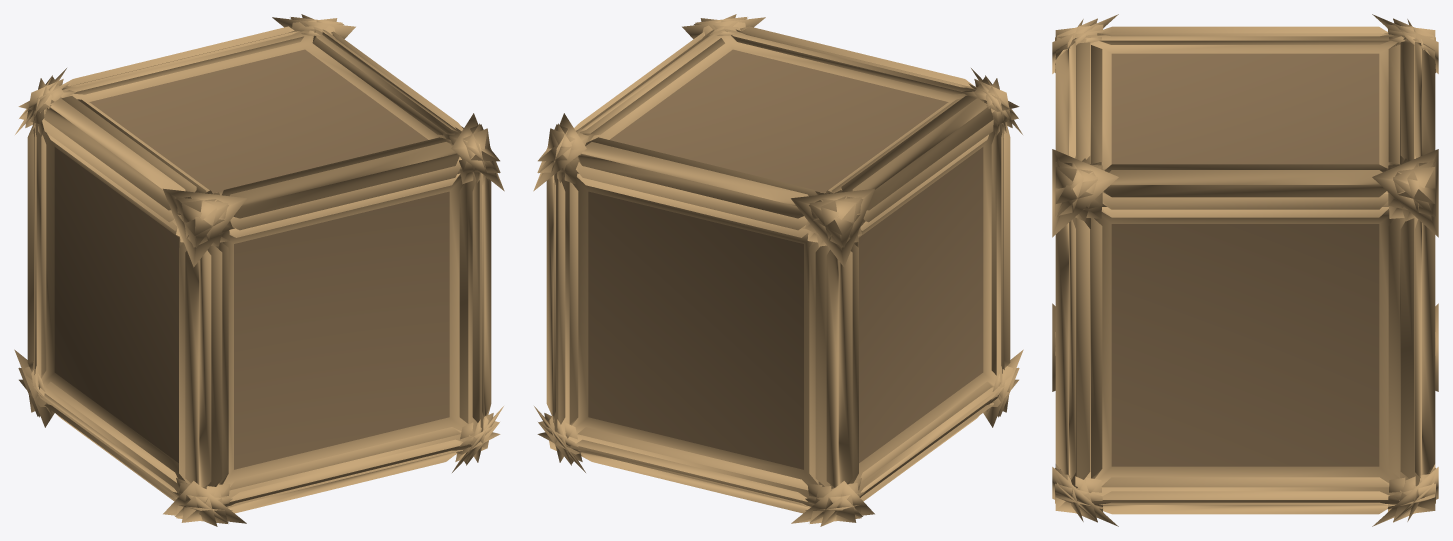
The model's file is crate.glb.
3 views of the same model, side by side, from view 1: azimuth 30°, elevation 25°; view 2: azimuth 150°, elevation 25°; view 3: azimuth 270°, elevation 25° (orthographic). The views are drawn at different scales.
Parts seen in each view (by area): view 1: crate; view 2: crate; view 3: crate.
Part boxes in pixels (x1,y1,x2,y2): crate: [14, 14, 504, 526]; crate: [533, 14, 1023, 526]; crate: [1052, 14, 1438, 526].
Bounding box in the file's own units: 1.05 × 1.05 × 1.05.
